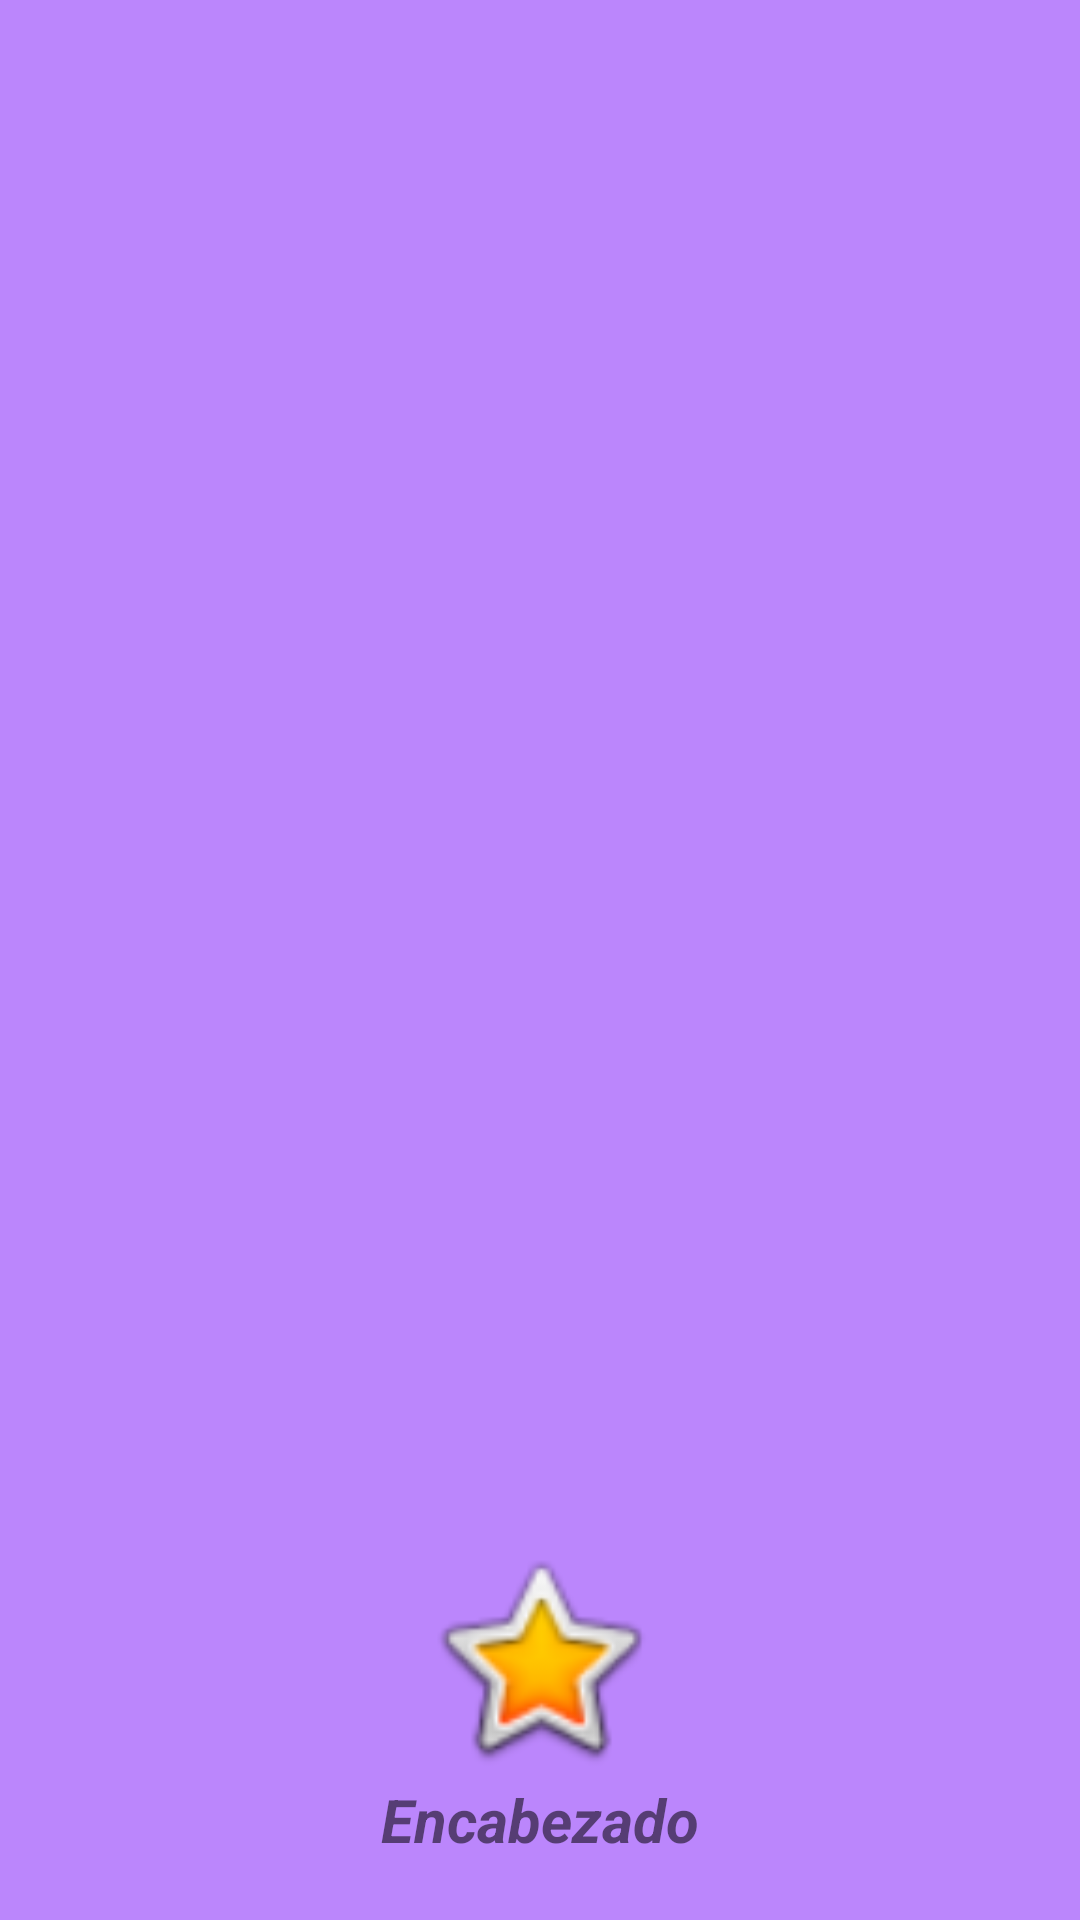

Where to tap for icons on this 1080w x 1920h app screen, as (x,y):
star on: (541,1661)
